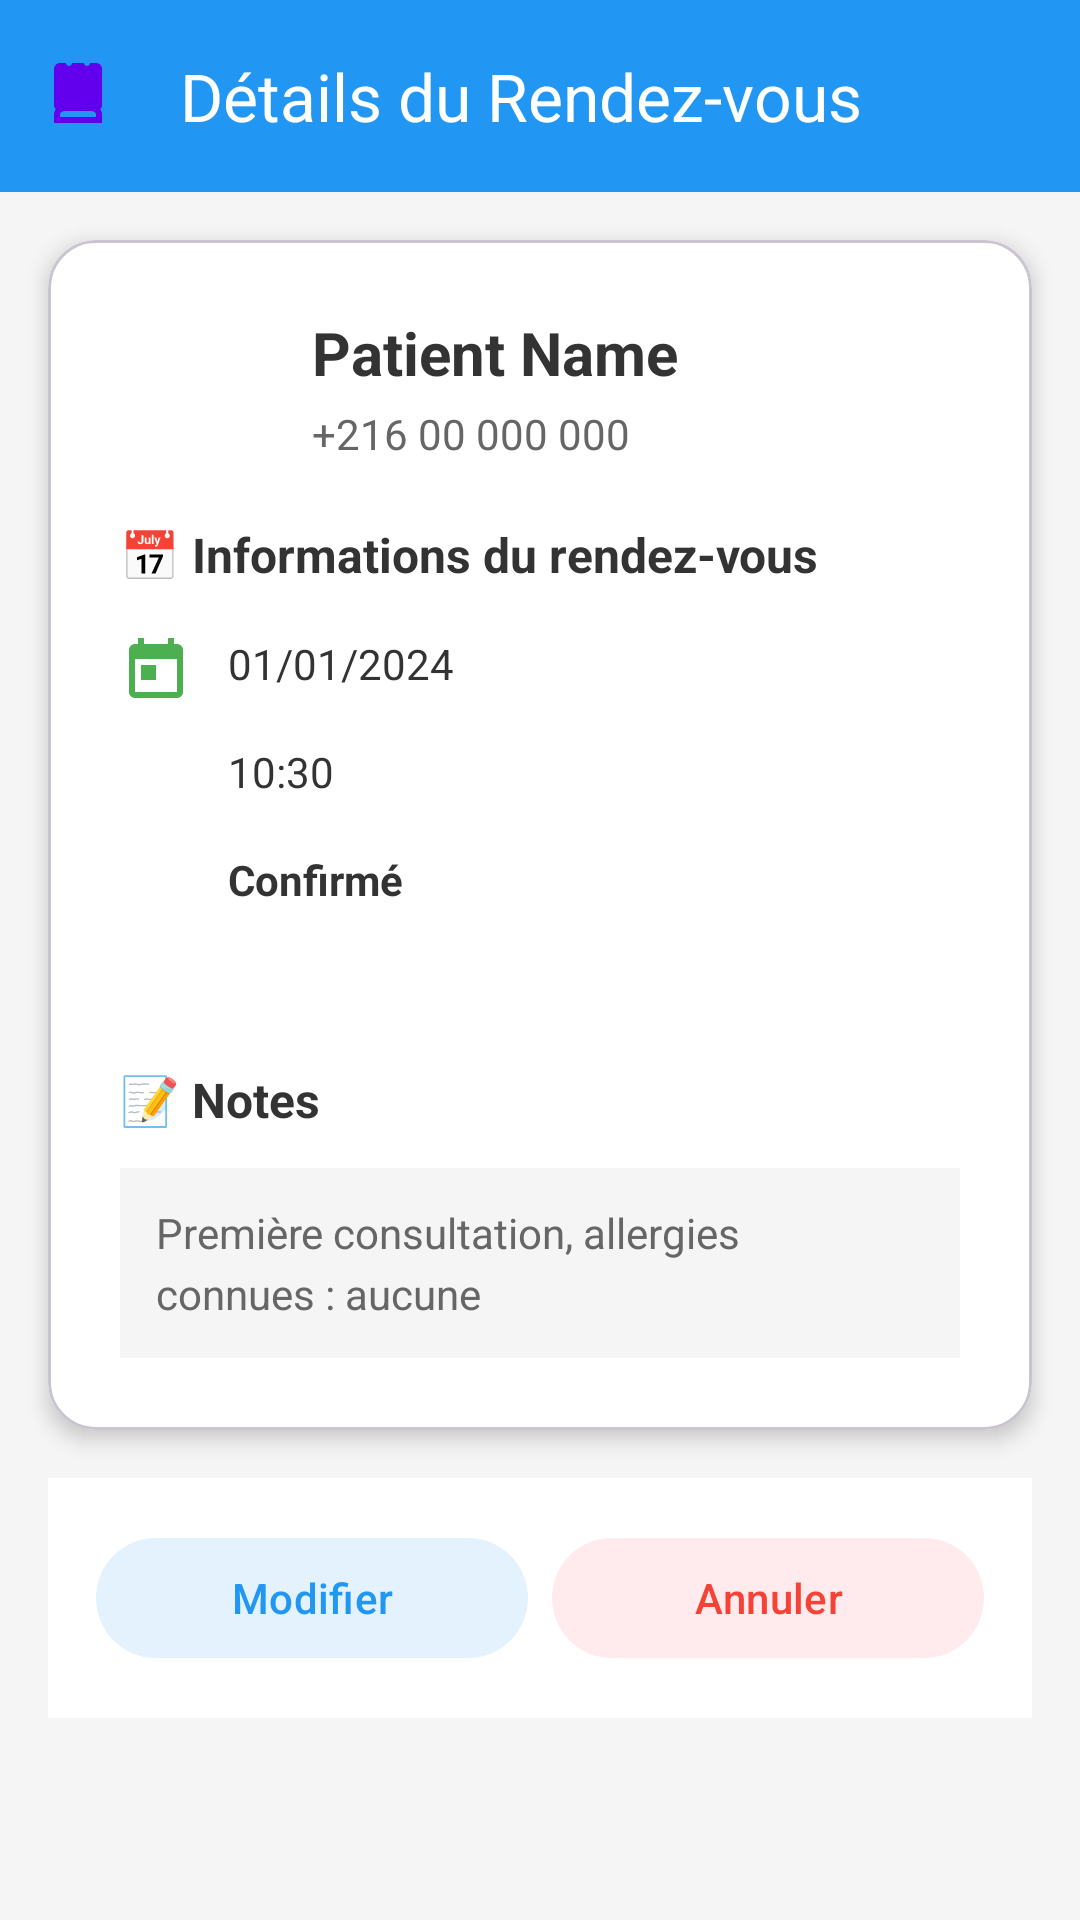

Screen size 1080px x 1920px. Icon name, then its center in pixels as (x,y):
calendar: (156,668)
